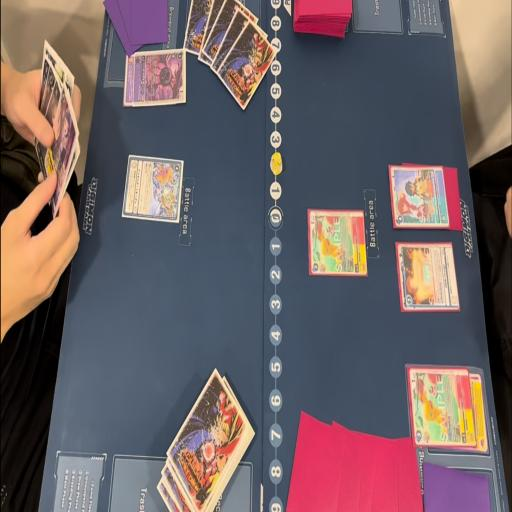card: (404, 364, 474, 448), (42, 80, 82, 210), (395, 240, 457, 316), (121, 154, 187, 224), (308, 206, 370, 278), (386, 162, 448, 229), (132, 50, 187, 112), (28, 62, 64, 148), (468, 371, 490, 457), (123, 50, 138, 106)
